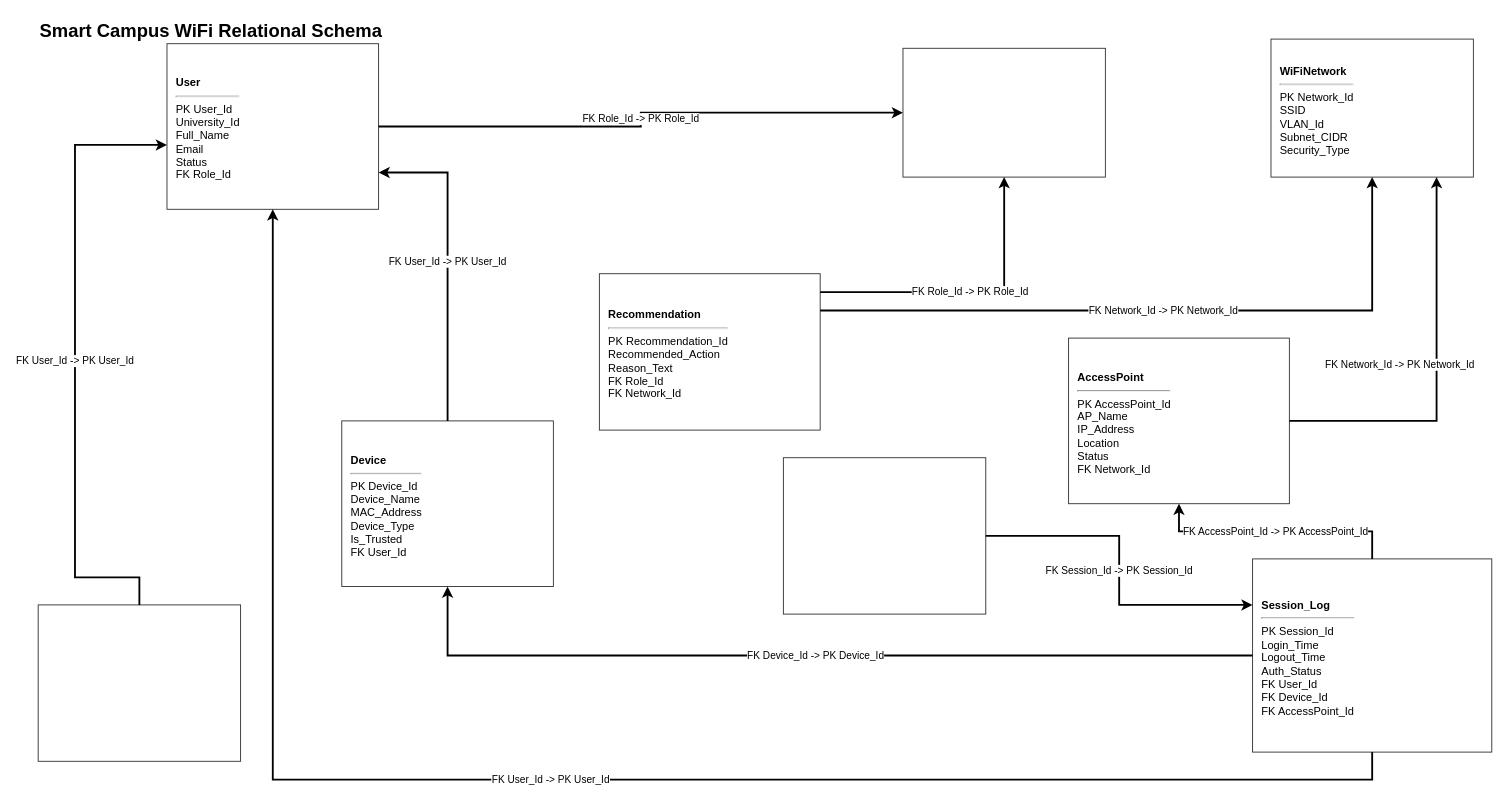
Some shapes in this 1508 by 803 pixel diagram are drawn without their labels. The centre of each missing label's shape, as x and y in pixels:
Admin_Action PK Action_Id Action_Type Action_Time Notes FK User_Id: (x=139, y=682)
Role PK Role_Id Role_Name Max_Daily_Data_MB Max_Devices: (x=1003, y=112)
Usage_Log PK Log_Id Download_MB Upload_MB Log_Time FK Session_Id: (x=884, y=535)
